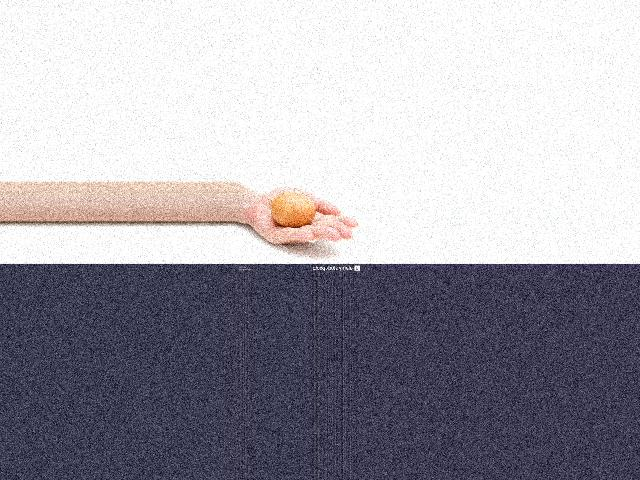egg: (269, 191, 314, 227)
